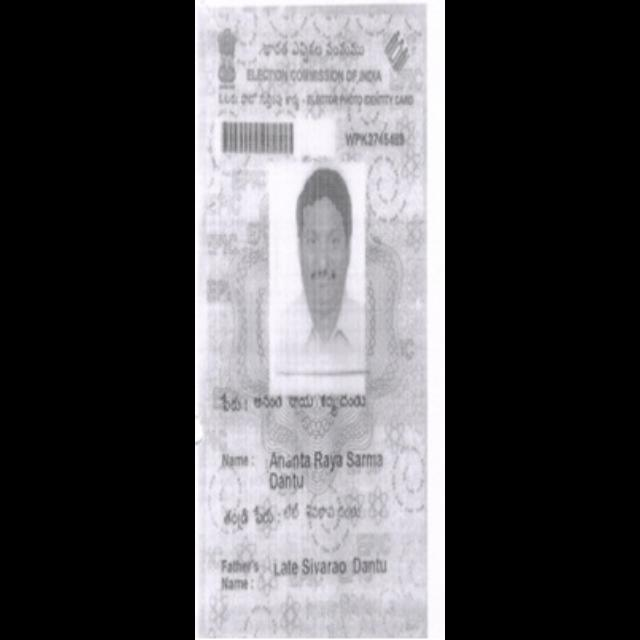voter_id: (195, 0, 429, 636)
